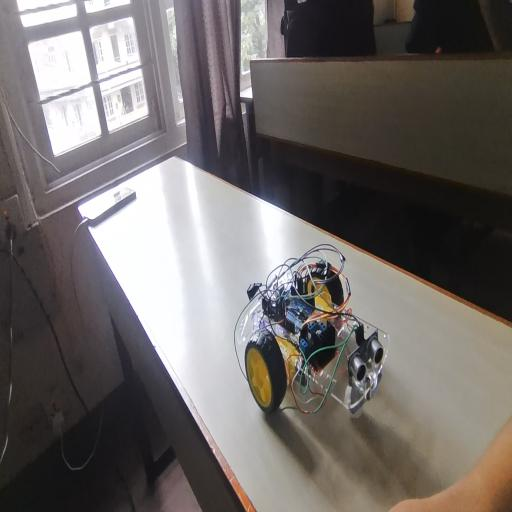car: (223, 267, 450, 463)
